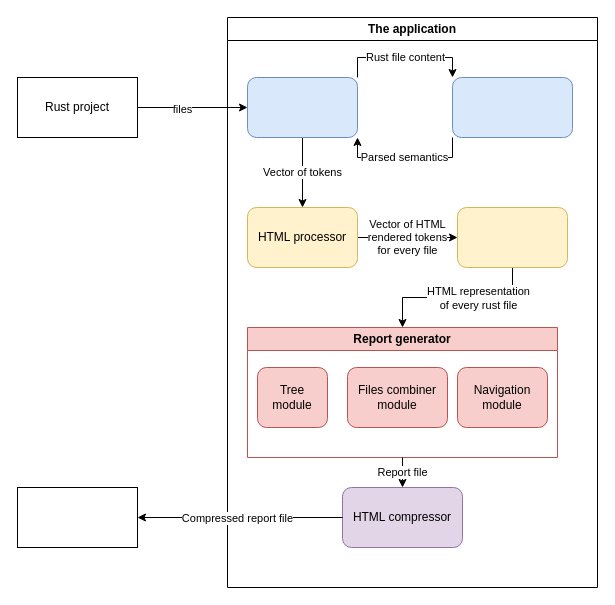
Some shapes in this 615 by 605 pixel diagram are drawn without their labels. The shapes that lost their labels are listed below. From the top down, each one's centre as x and y in pixels, then its label:
pixel 302 107: Parser module
pixel 512 107: Rust-analyzer library
pixel 512 237: HTML generator
pixel 77 517: HTML Report
